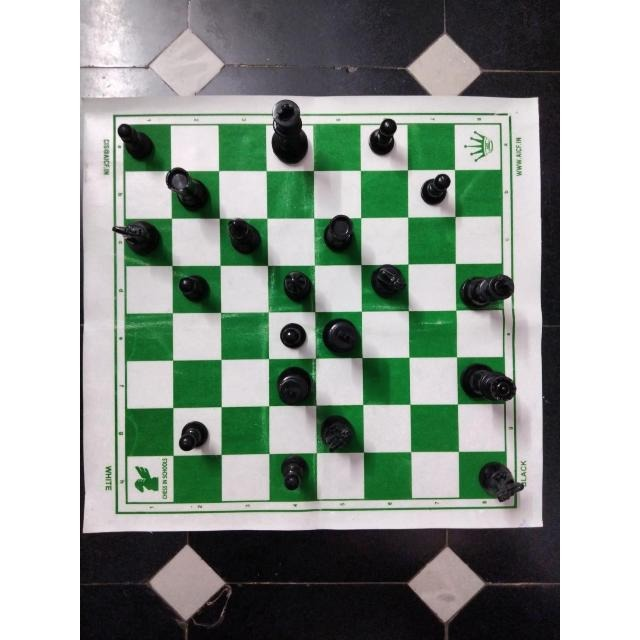black-bishop: (224, 215, 263, 255), (277, 270, 315, 306)
black-king: (269, 97, 313, 168), (454, 270, 515, 313), (319, 317, 365, 358), (272, 368, 315, 407)
black-knight: (475, 460, 528, 504), (110, 219, 165, 258), (320, 412, 356, 455), (369, 264, 407, 302)
black-pawn: (116, 123, 157, 163), (364, 116, 400, 160), (417, 173, 452, 214), (279, 455, 311, 495), (174, 419, 212, 451), (175, 274, 213, 305), (280, 320, 312, 352)
black-queen: (455, 362, 519, 406)
black-rook: (162, 166, 214, 212), (322, 212, 358, 255)
